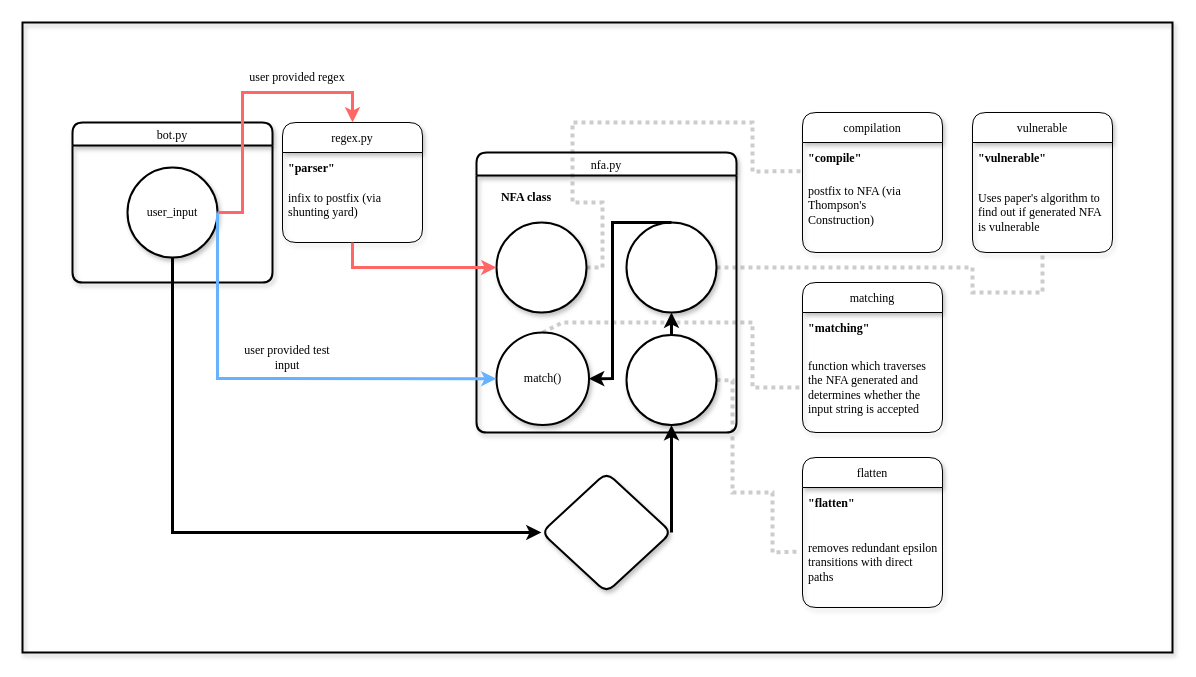
Image size: 1196x677. Some labels were removed from this diagram. Each missing label, with the centre of its shape:
compile(): the point at 542,268
flatten(): the point at 672,381
VULNERABLE CHECK?: the point at 607,533
vulnerable(): the point at 672,268
